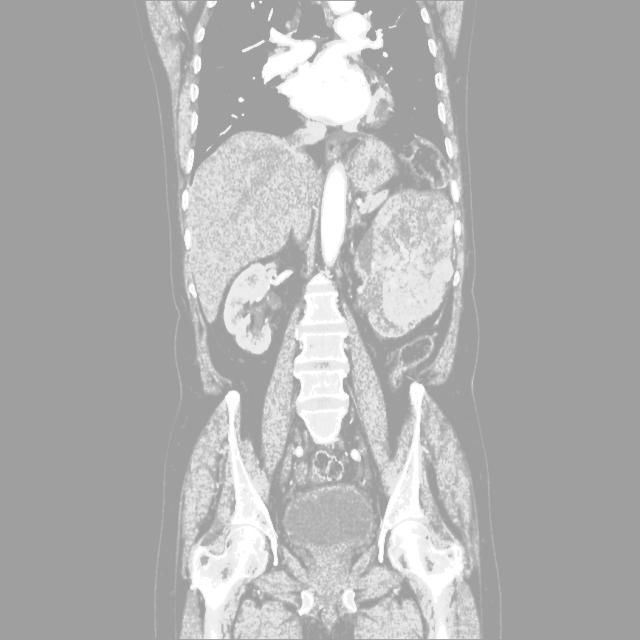TUMOR: (105, 143, 510, 439)
